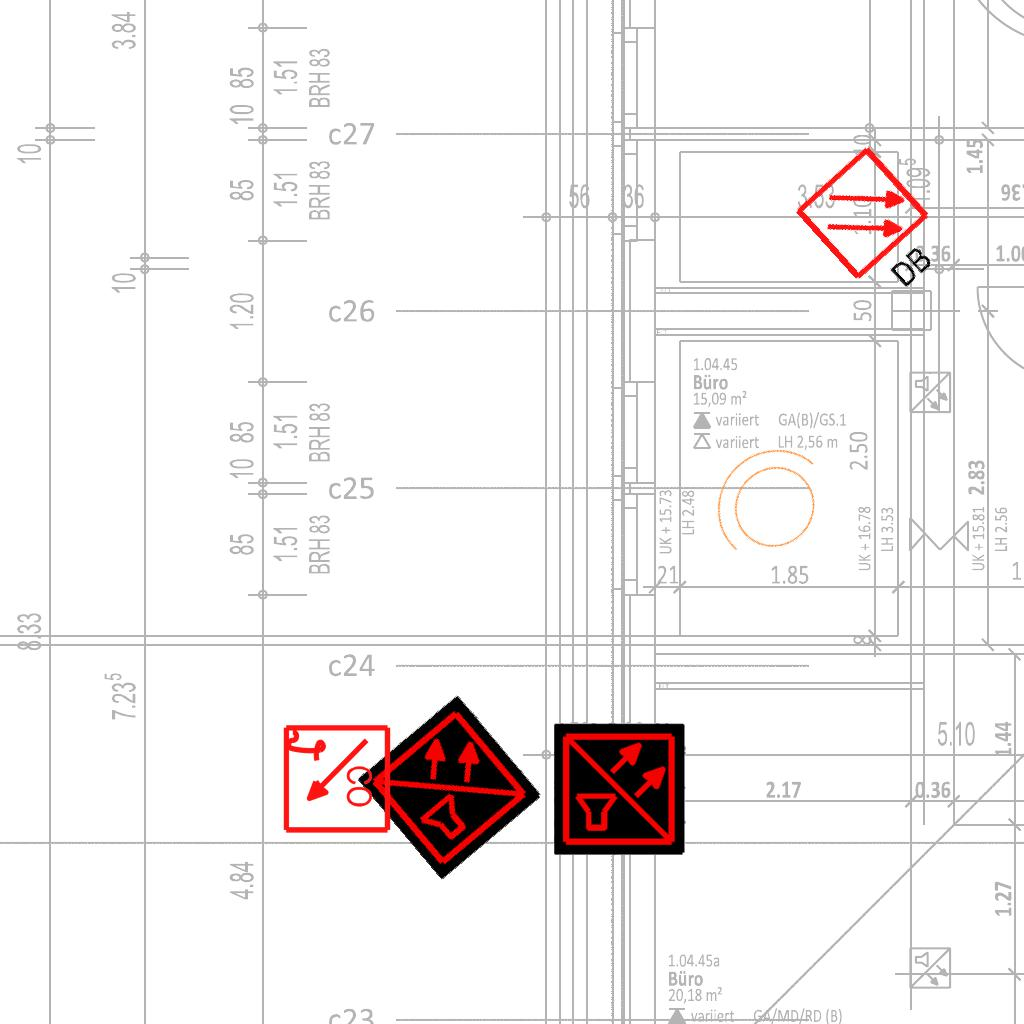DB_Melder_in_Doppelboden_mit_Revisionsoeffnung_mind_40_x_40_cm: (784, 133, 970, 322)
OKW_Multisensormelder_(Kombination_optischer_Rauch-Kahlenmonoxid_Waerme-Melder): (357, 694, 543, 880), (554, 723, 686, 855)
ROA_Rauchmelder_optisch_mit_Signalgeber_(Sockelsirene): (279, 723, 392, 836)
Scheinwerfer_fuer_Alarmbeleuchtung: (683, 419, 855, 593)
